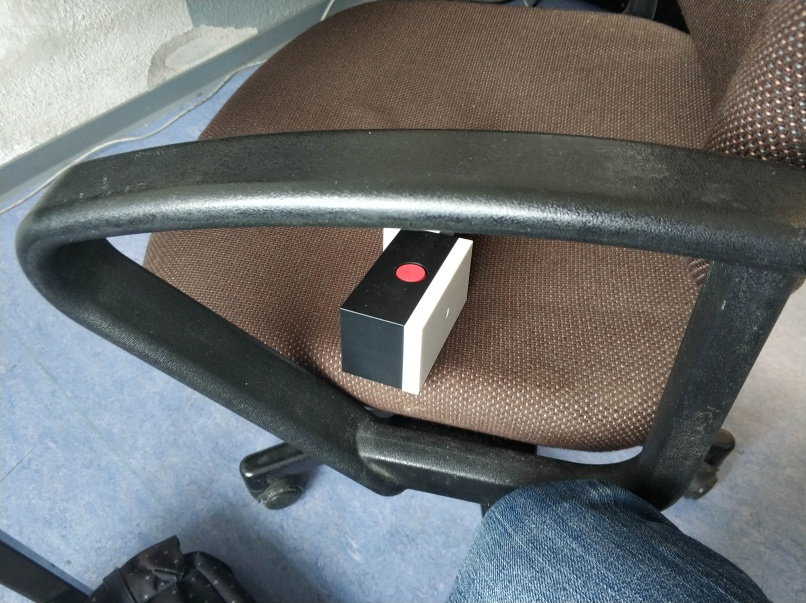white+black+red: (337, 229, 476, 400)
